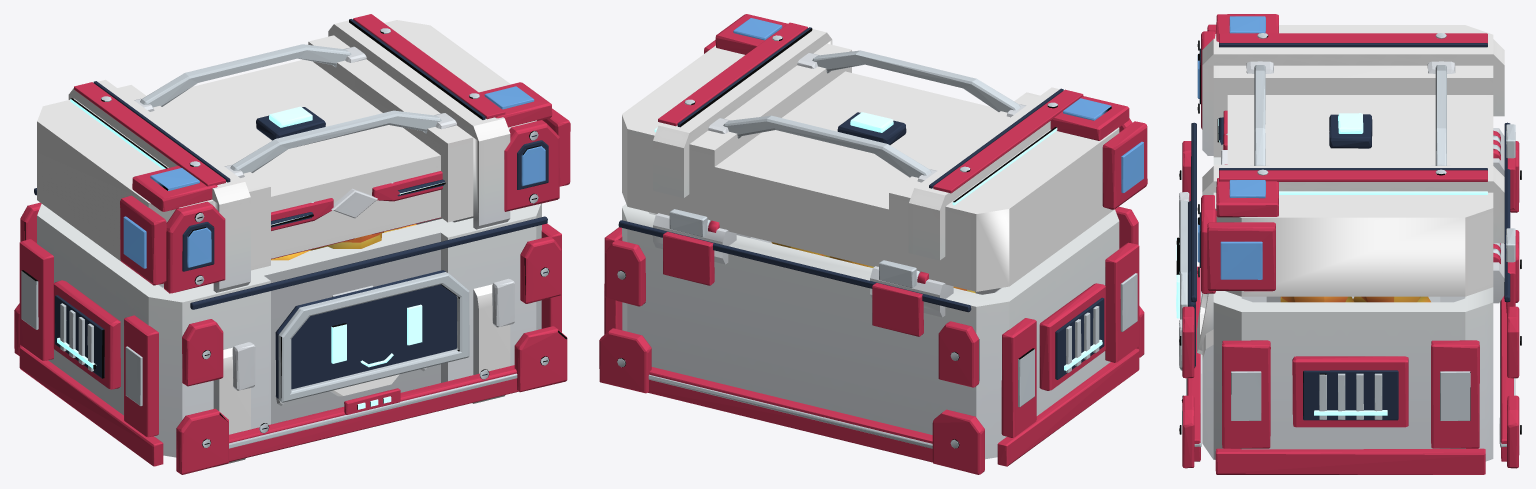
File: nova-buddy.glb
The picture shows the model from 3 angles, left to right: view 1: azimuth 30°, elevation 25°; view 2: azimuth 150°, elevation 25°; view 3: azimuth 270°, elevation 25°; orthographic projection.
Visible parts, largest first — view 1: Body, LidShell, CoinPile; view 2: Body, LidShell; view 3: LidShell, Body, CoinPile.
Part boxes in pixels (box(x1,y1,x2,y2)): Body: box(14, 188, 567, 474); LidShell: box(37, 14, 570, 293); CoinPile: box(271, 224, 416, 260); Body: box(599, 204, 1144, 474); LidShell: box(622, 14, 1147, 291); LidShell: box(1197, 14, 1515, 296); Body: box(1176, 122, 1521, 474); CoinPile: box(1280, 296, 1430, 302).
Size of the model in its own units: 2.2 by 1.4 by 1.52.
Materials: 2 (2 with a texture image).
